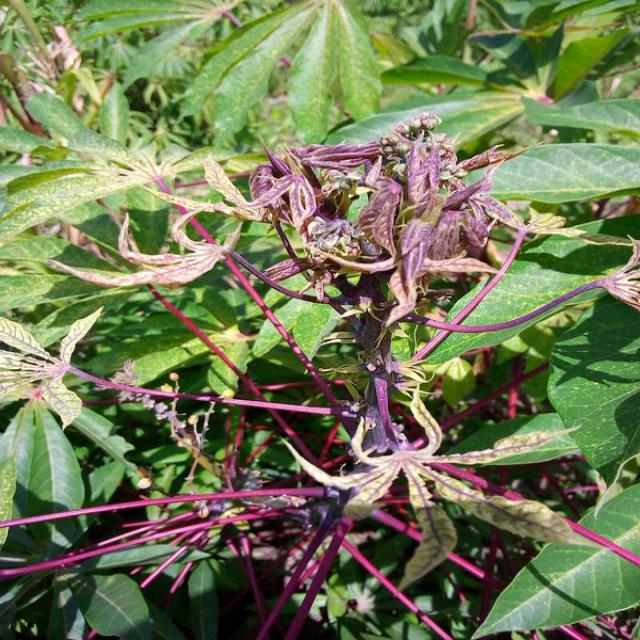cassava leaf: (0, 1, 638, 637), (470, 481, 640, 638)
